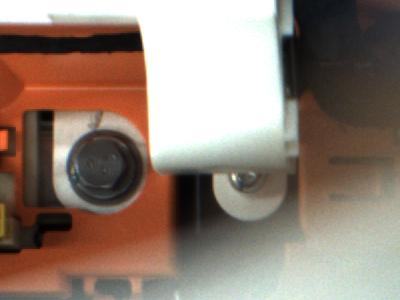nut_b: (61, 122, 147, 211)
